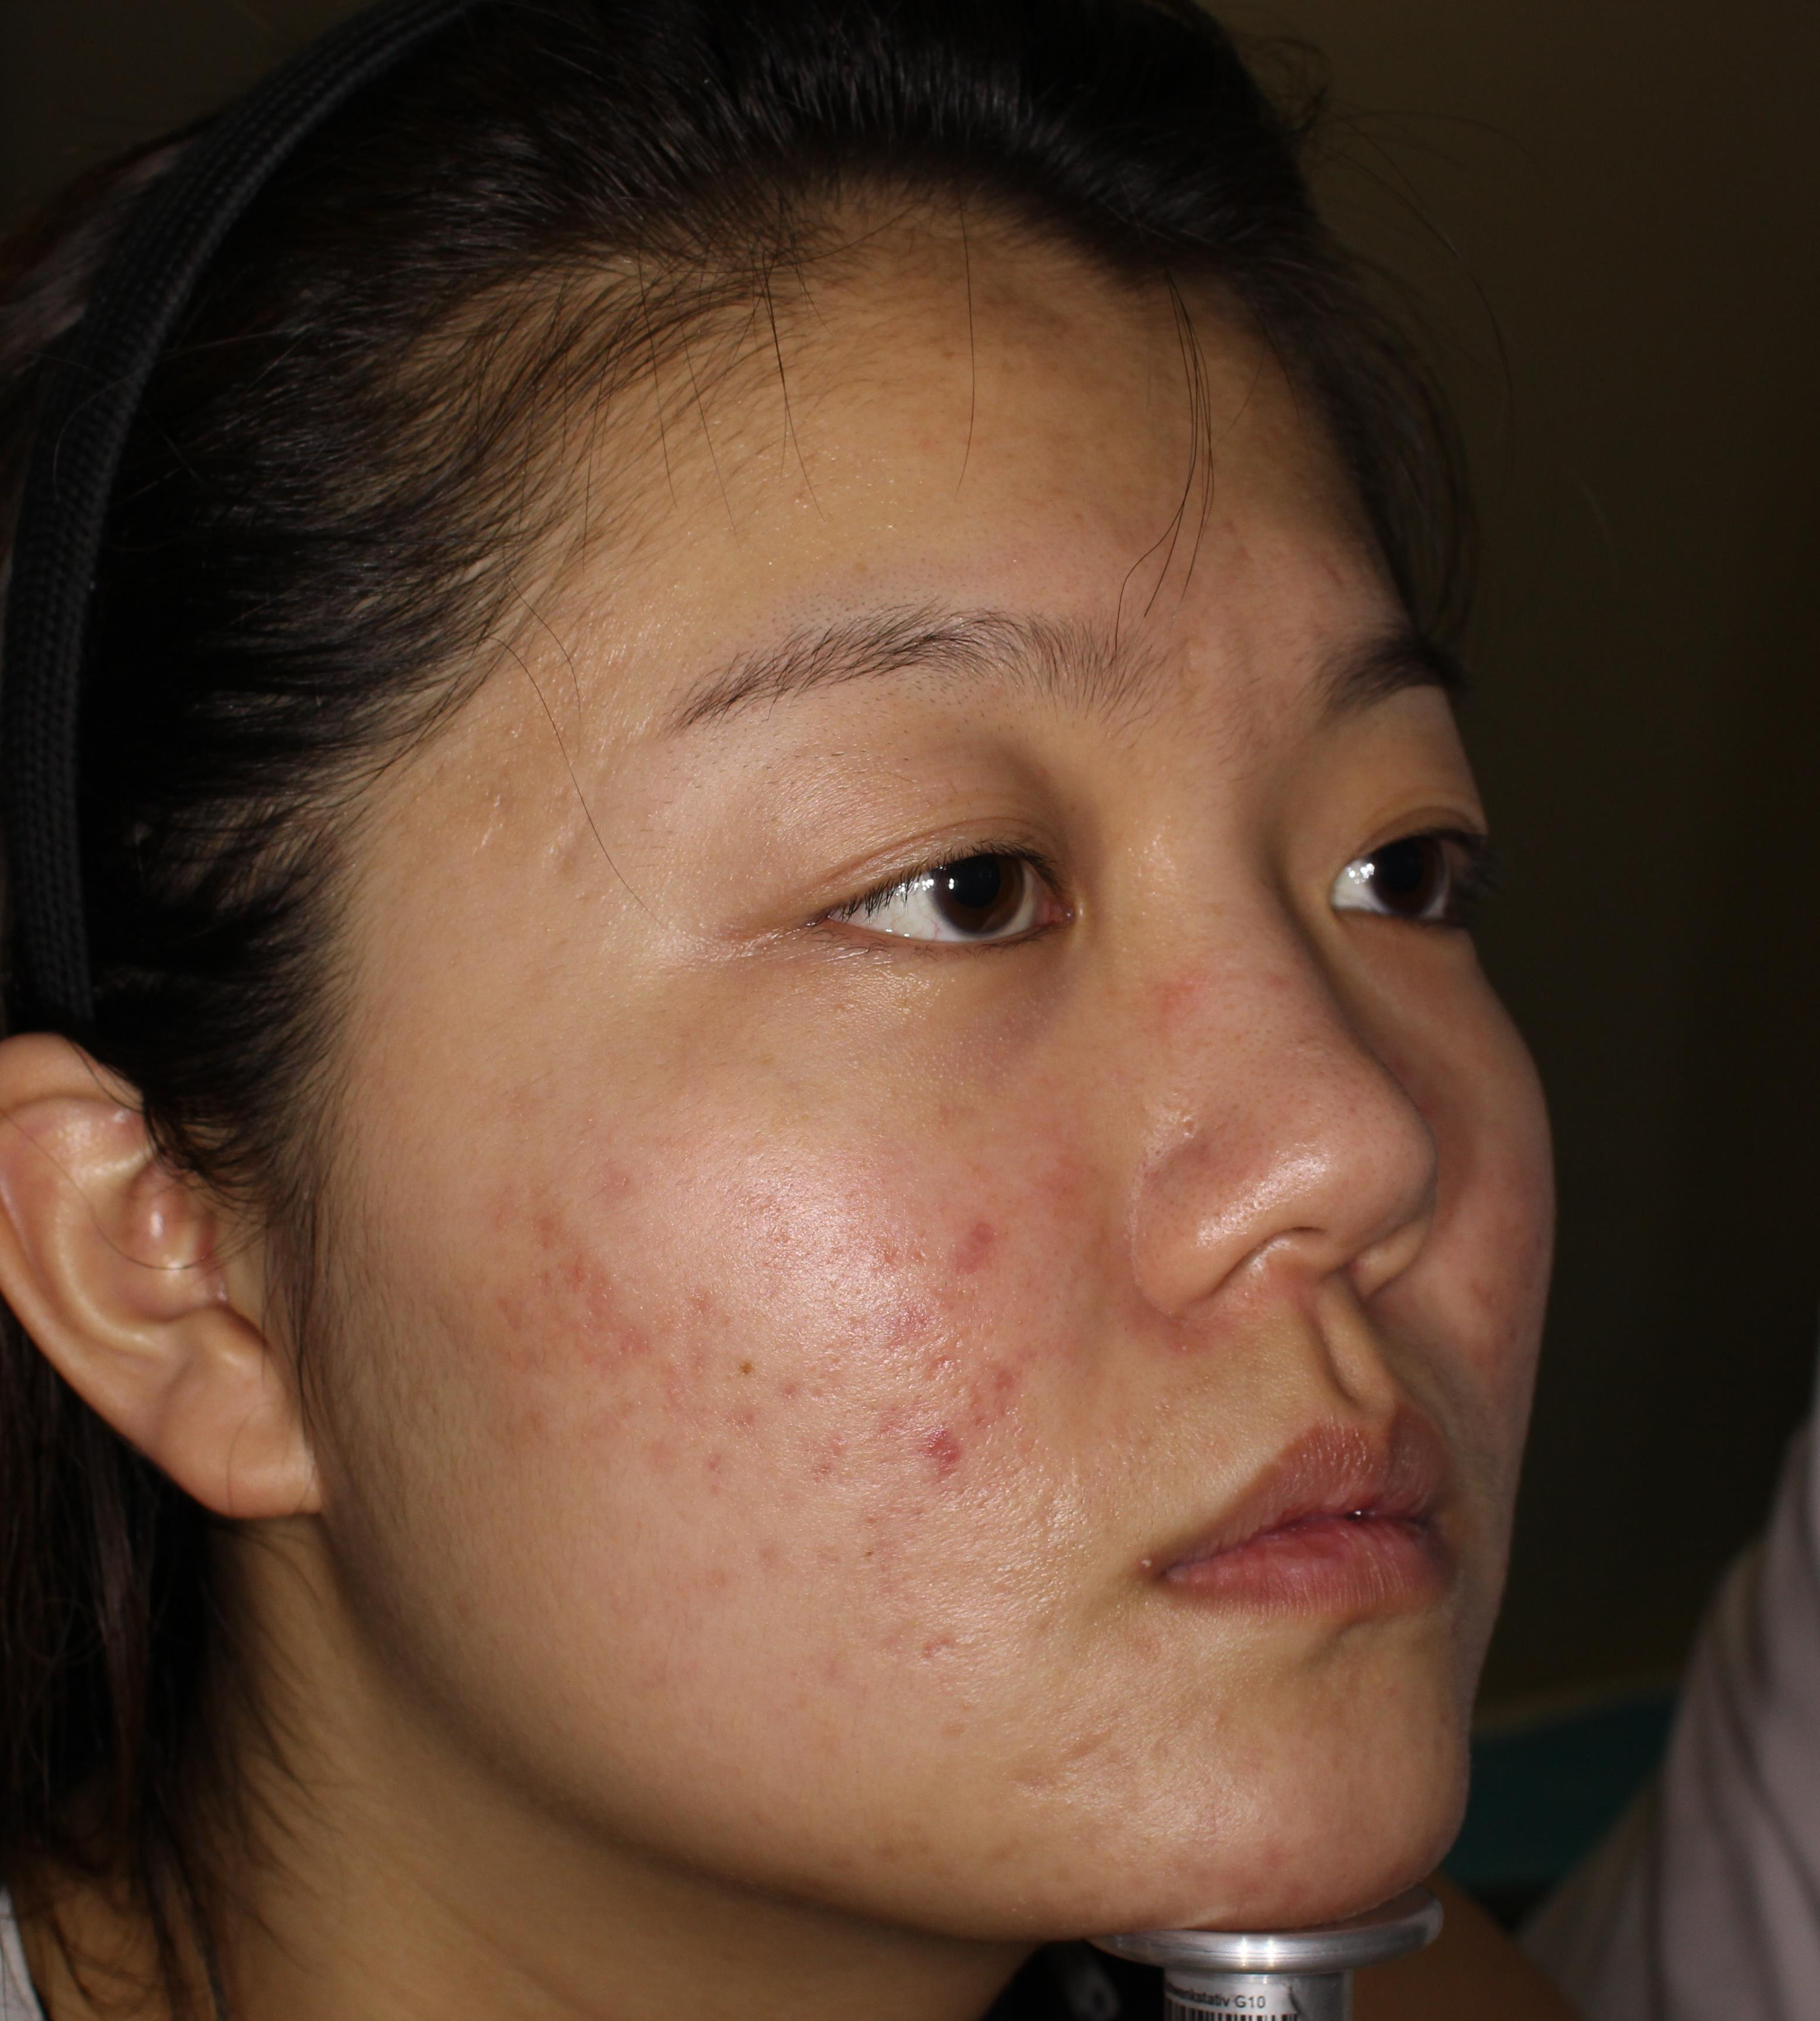fore: (696, 1338, 820, 1482), (459, 1145, 597, 1226), (938, 1185, 1042, 1289), (539, 1248, 652, 1329), (901, 1410, 1001, 1500), (950, 1329, 1042, 1415)
